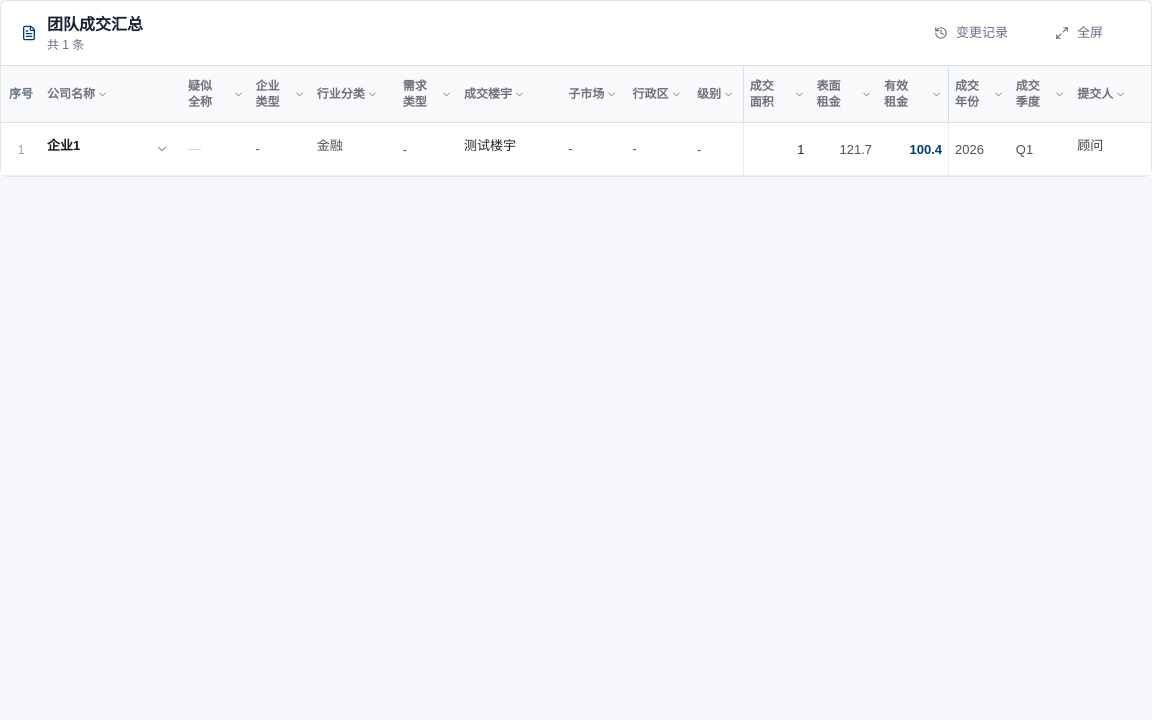
Scenario: 成交汇总交互 › continues searching change history from the toolbar as audit rows arrive and the result narrows
This screenshot has width=1152, height=720.
Click the button "变更记录": {"x": 971, "y": 33} [919,17,1023,49]
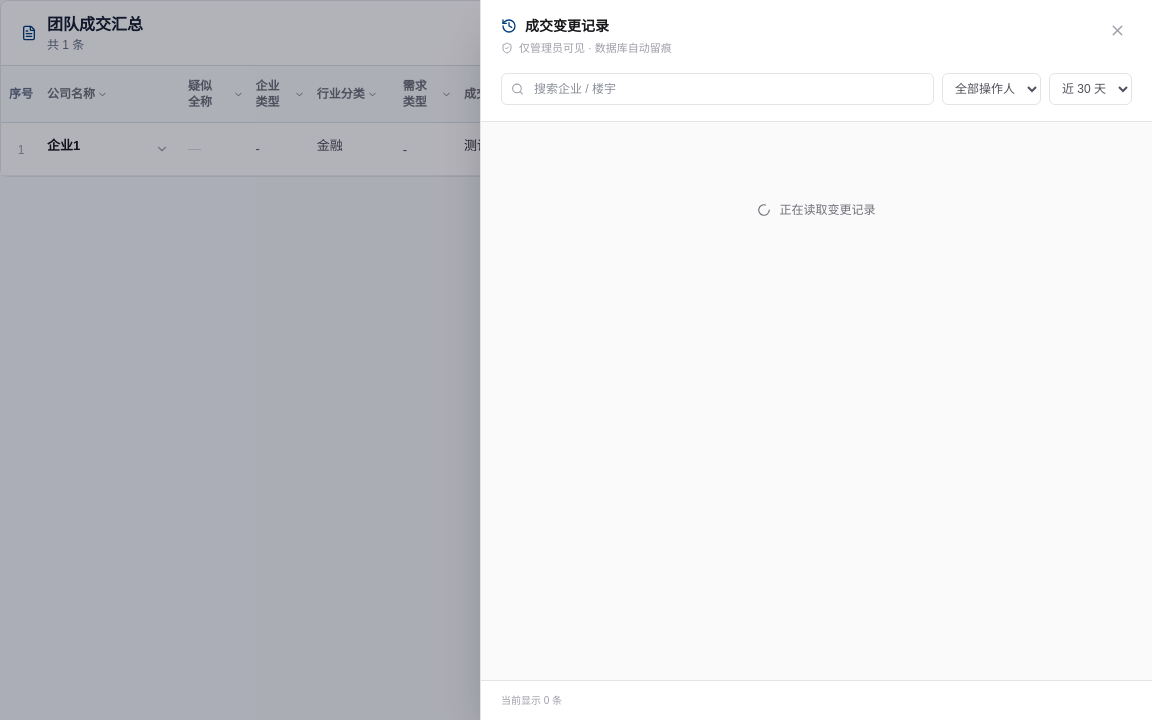
Click the field with placeholder "搜索企业 / 楼宇": {"x": 718, "y": 88} [501,72,934,104]
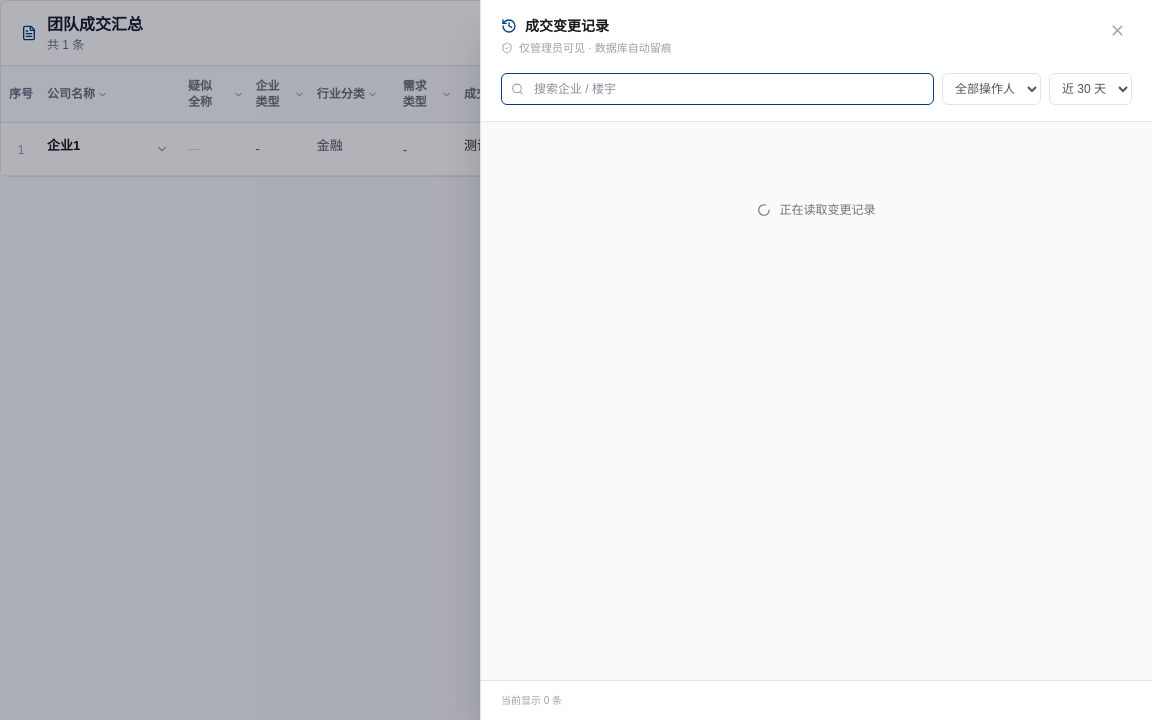
Type keys "A"
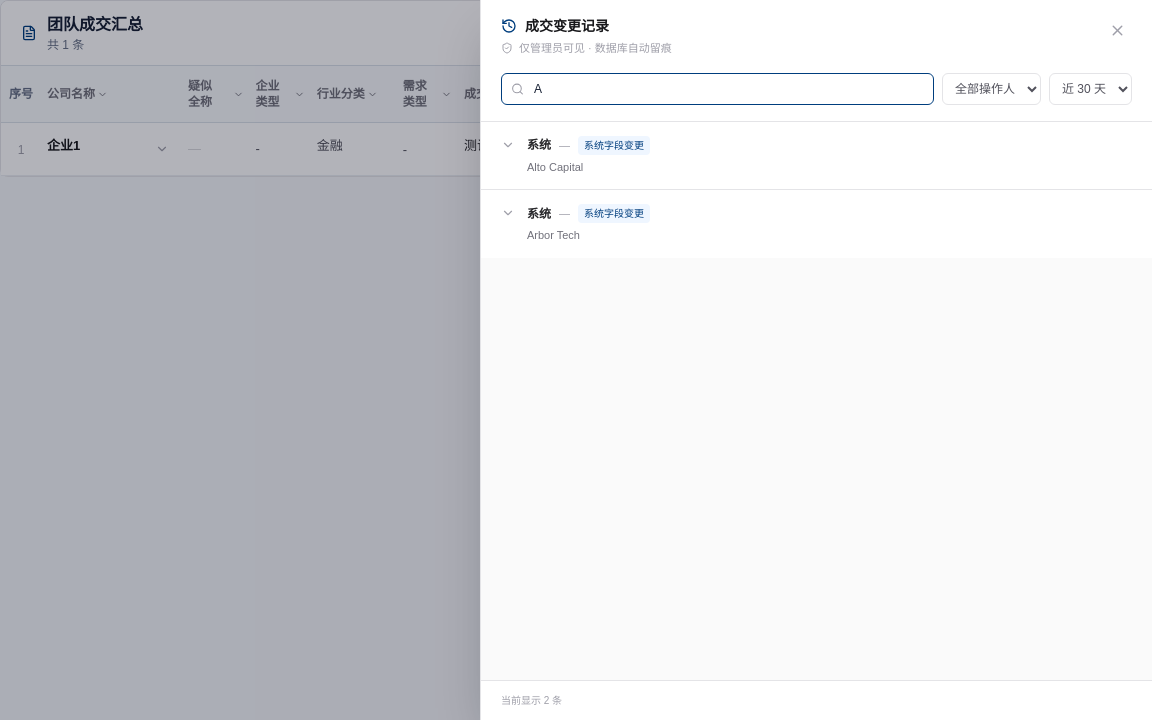
Expected: the text "正在读取变更记录" is shown, [481,122,1151,258]
Expected: the text "Arbor Tech" is shown, [527,229,580,241]
Type keys "t{ArrowLeft}l"
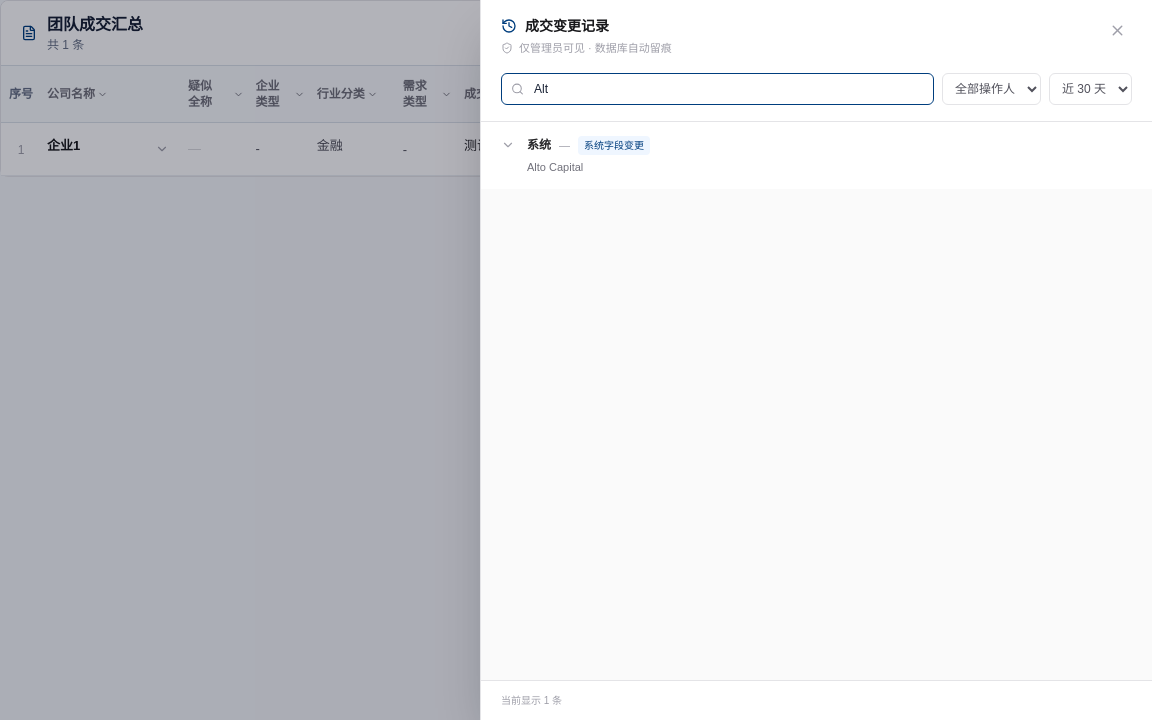
Expected: the text "Alto Capital" is shown, [527,160,583,172]
Expected: the field with placeholder "搜索企业 / 楼宇" holds "Alt", [501,72,934,104]
Expected: the button "Arbor Tech" is gone
Click the button named "关闭变更记录": {"x": 1118, "y": 30} [1103,16,1132,45]
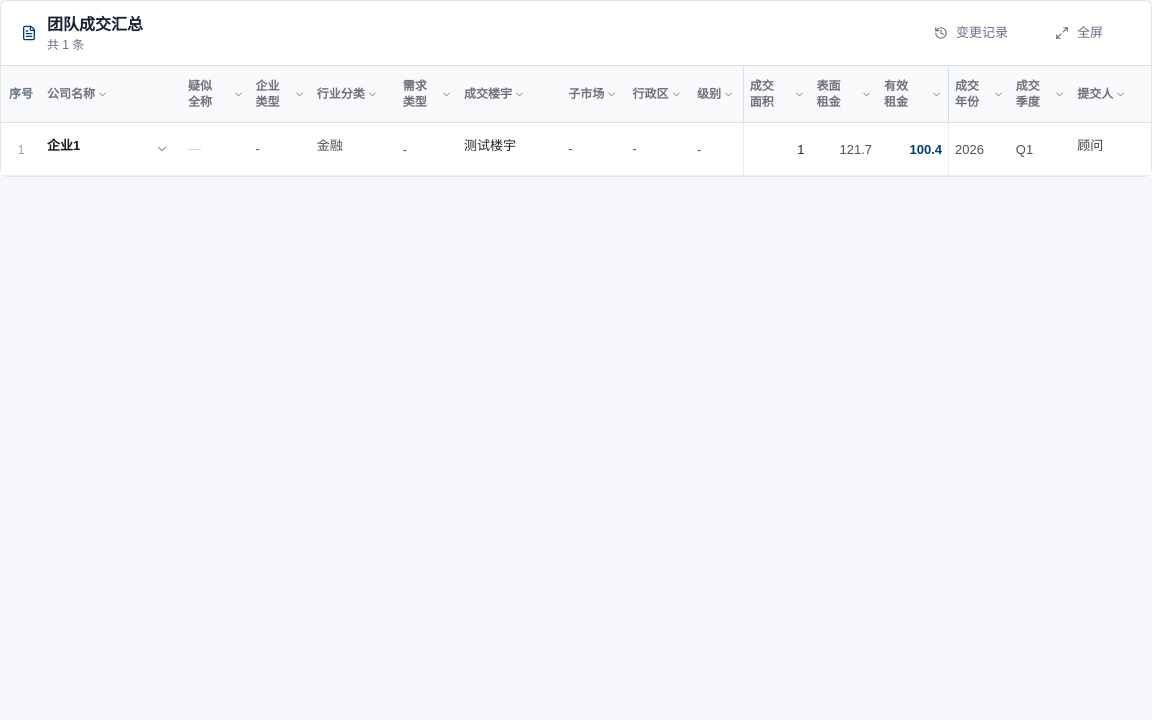
Expected: the dialog is gone
